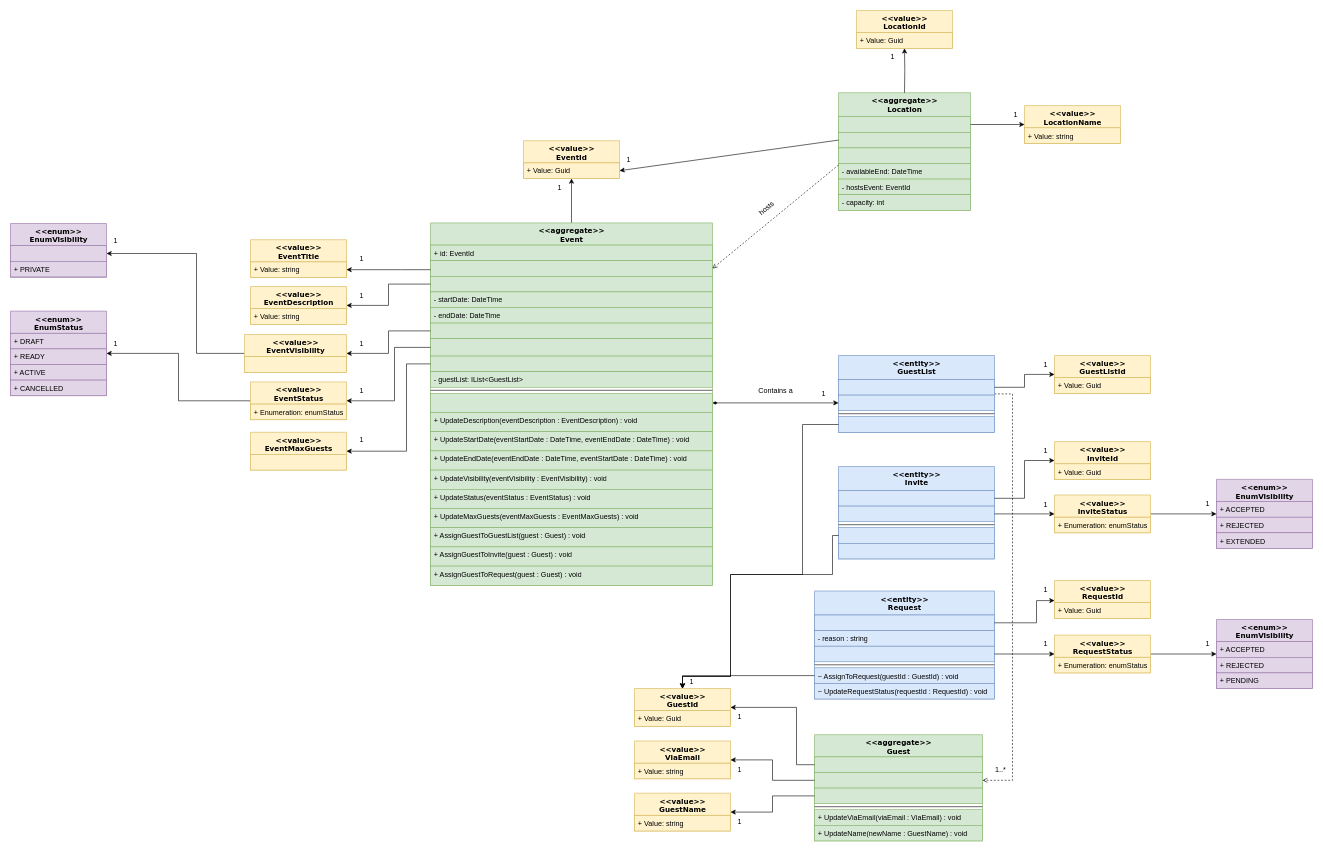
Image size: 1323x853. Some labels were removed from this diagram. Each missing label, with the centre of its shape:
+ Enumeration: enumVisibility: point 295,364
+ id: GuestId: point 898,764
+ id: LocationId: point 904,124
+ PUBLIC: point 58,253
+ UpdateTitle(eventTitle : EventTitle) : void: point 571,402
+ Value: int: point 298,462
- availableStart: DateTime: point 904,155
- description: EventDescription: point 571,284
- email: ViaEmail: point 898,780
- inviteStatus : InviteStatus: point 916,514
- maxGuests: EventMaxGuests: point 571,364
- name: GuestName: point 898,796
- name: LocationName: point 904,140
- numberOfGuests: int: point 916,402
- requestStatus : RequestStatus: point 904,654
- status: EventStatus: point 571,347
- title: EventTitle: point 571,268
- visibility: EventVisibility: point 571,330
~ AssignToGuestList(guestId : GuestId) : void: point 916,424
~ AssignToInvite(guestId : GuestId) : void: point 916,535
~ id: GuestListId: point 916,387
~ inviteId: InviteId: point 916,498
~ requestId : RequestId: point 904,622
~ UpdateInviteStatus(inviteId : InviteId) : void: point 916,551
